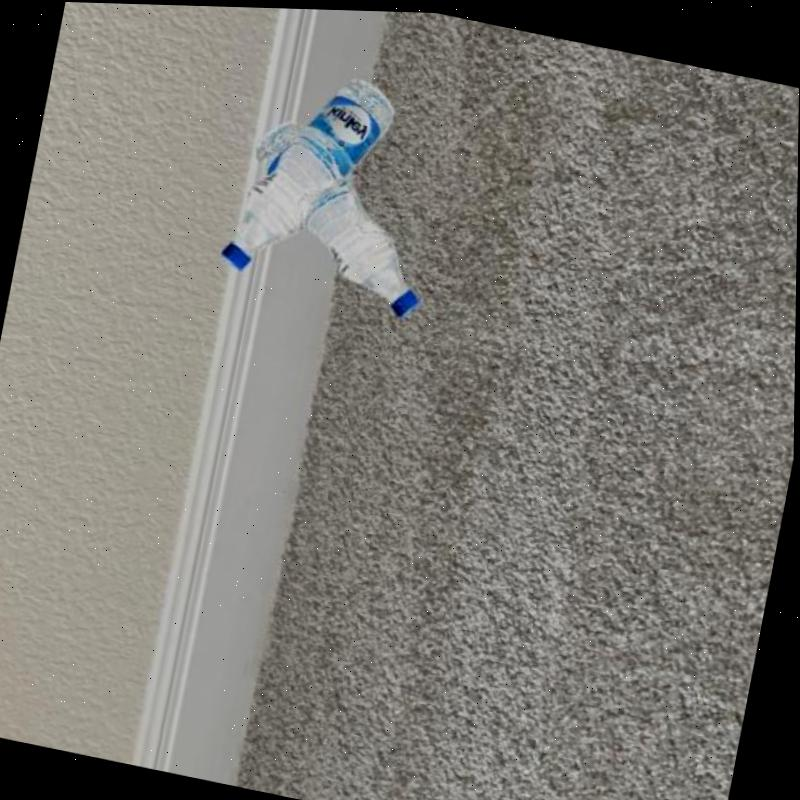botella: (214, 56, 402, 297), (230, 113, 445, 318)
